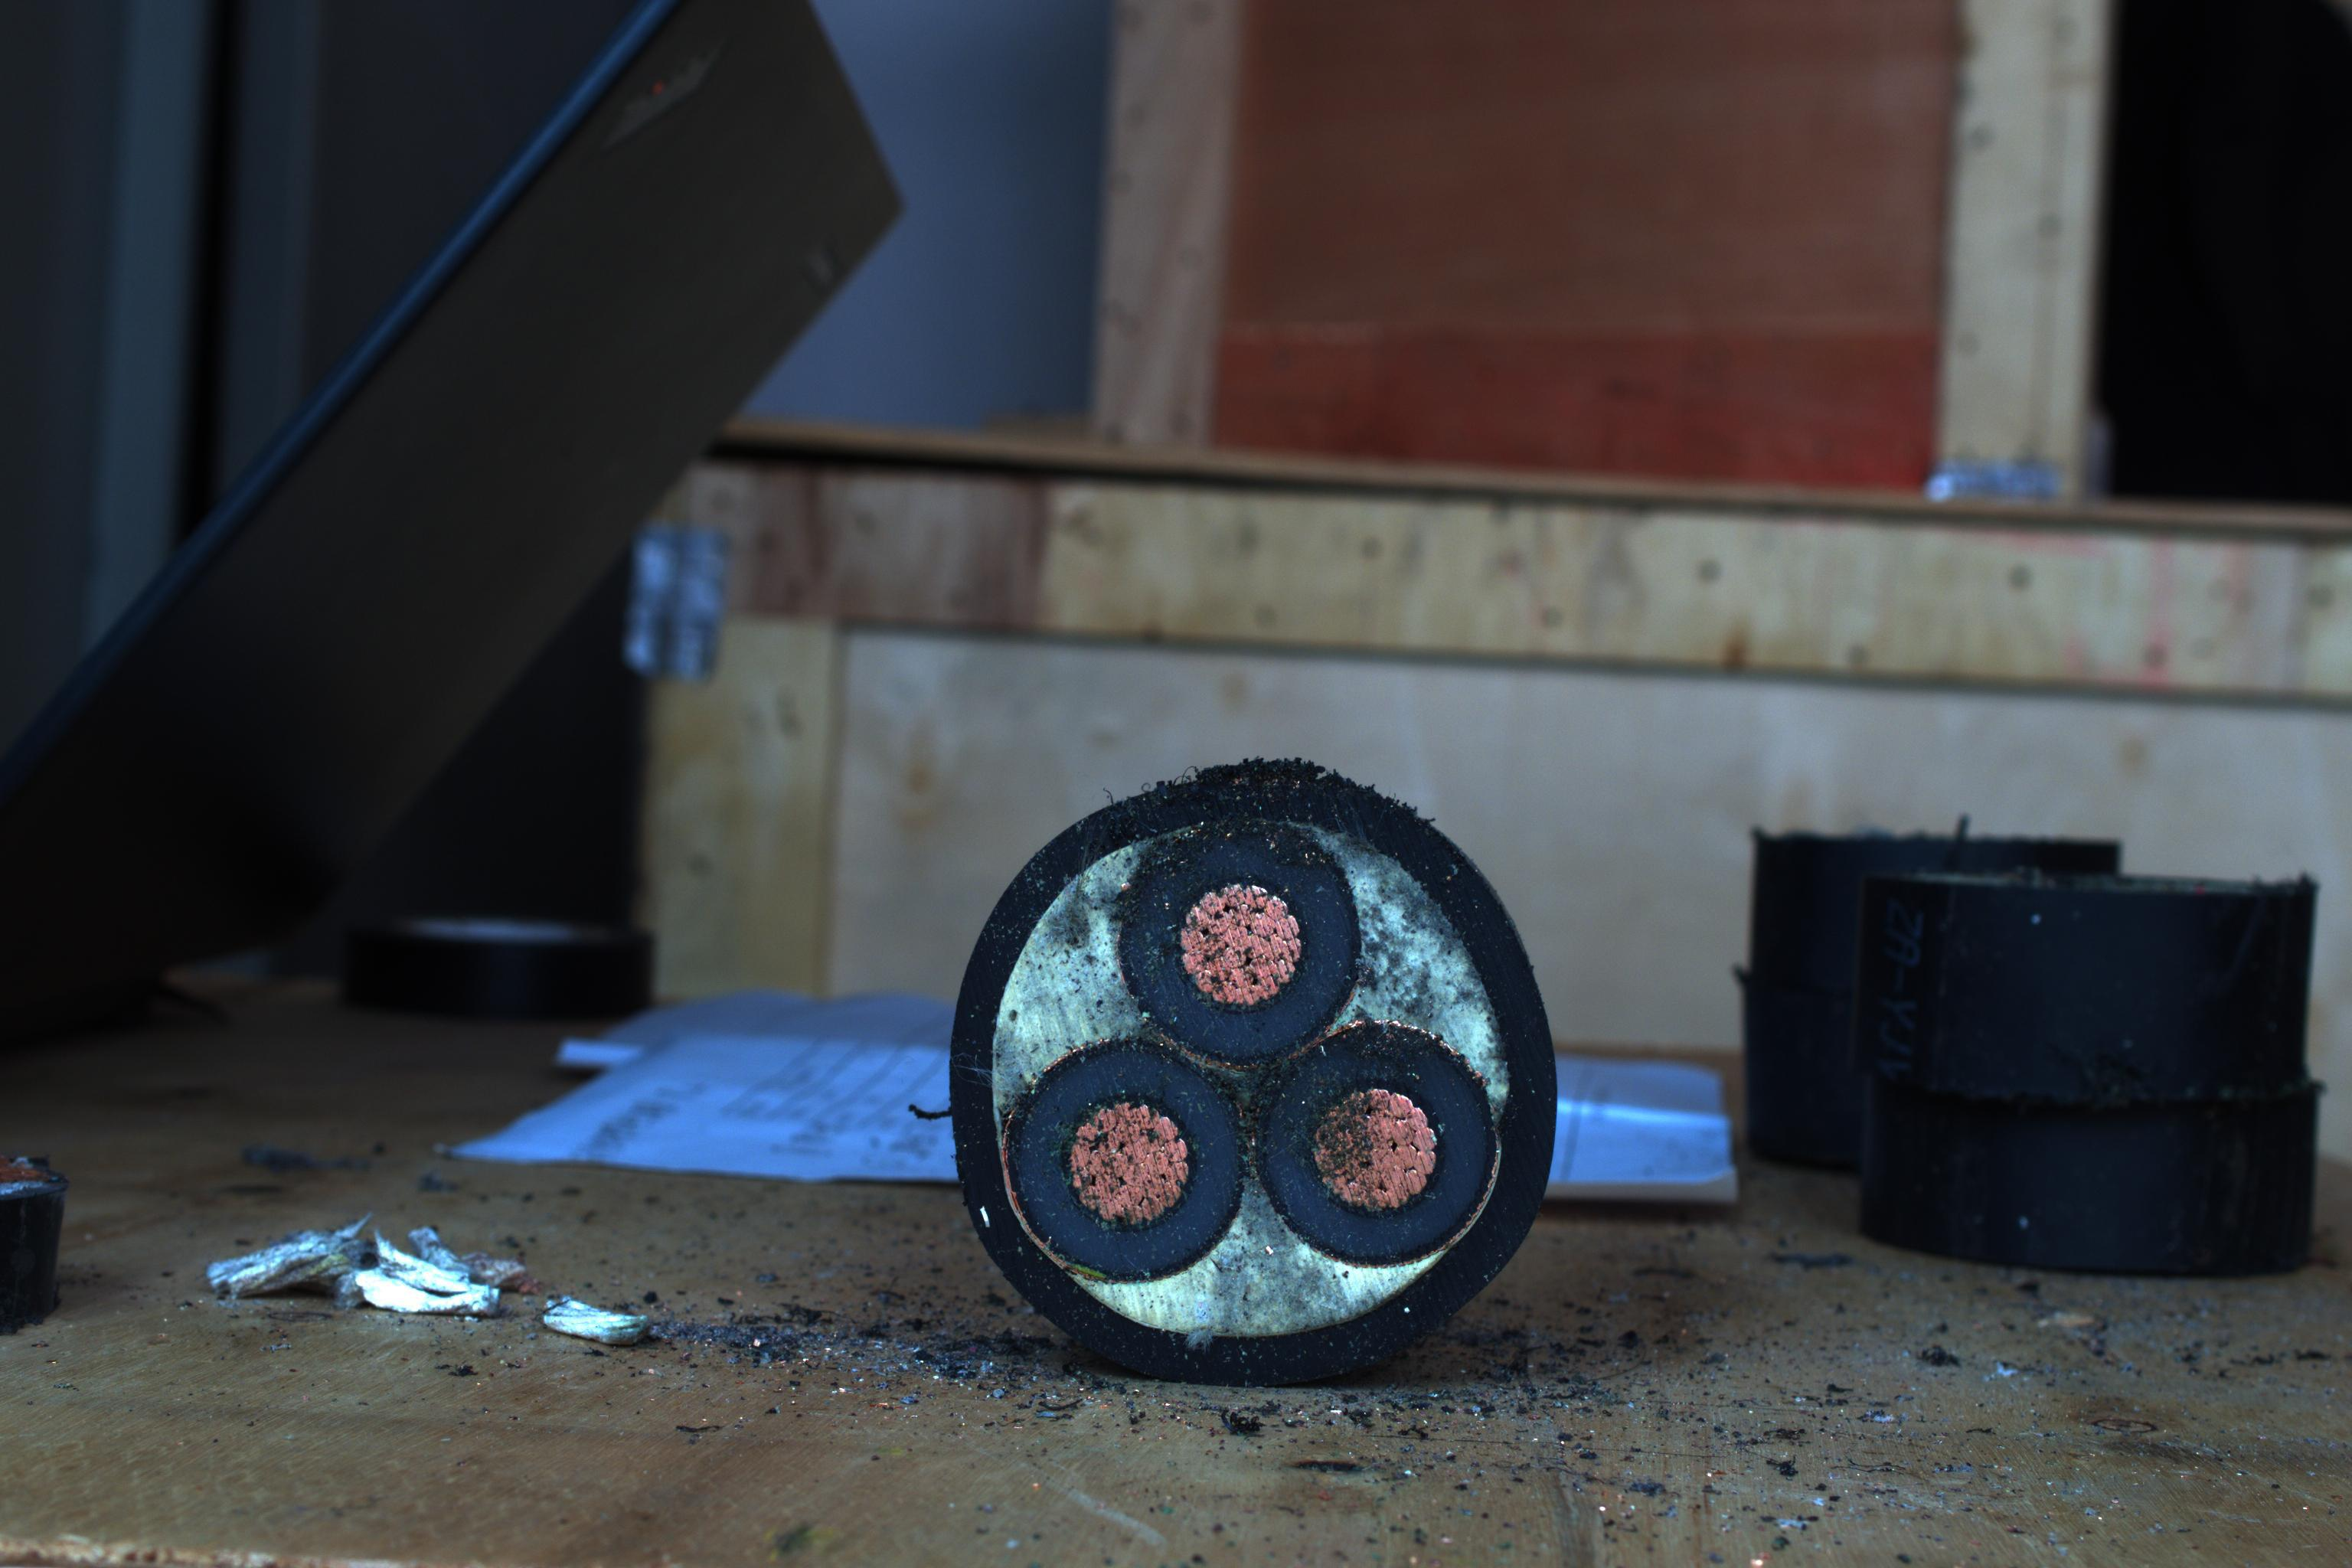ZA_YJV_8.7_10kV_3x120: (936, 772, 1536, 1367)
